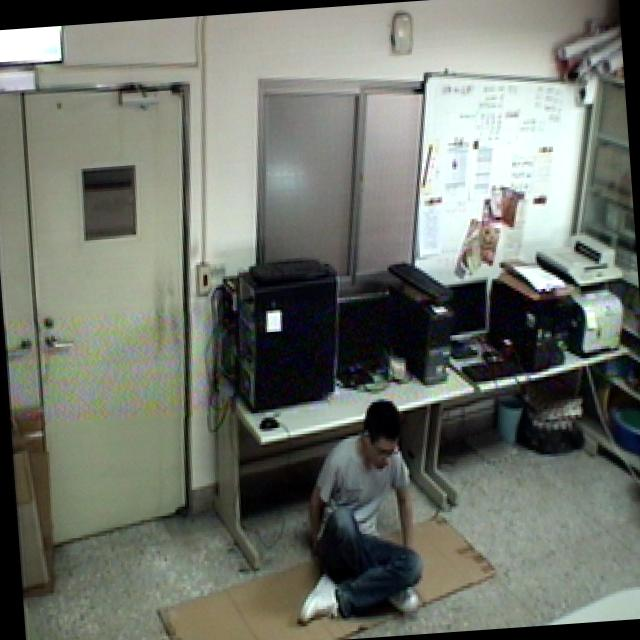sit: (277, 388, 433, 636)
